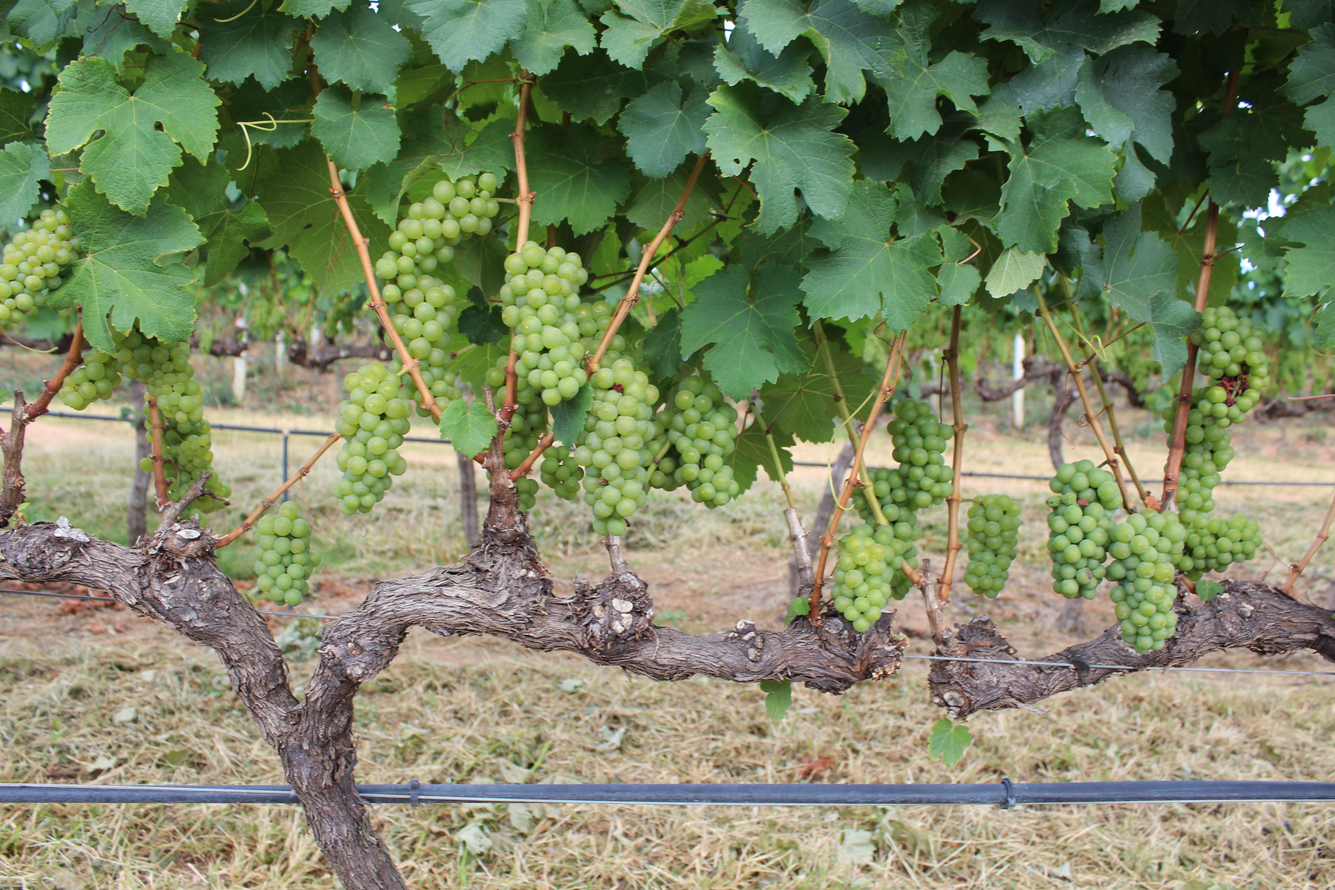leaf: (46, 52, 220, 215), (48, 180, 203, 352), (705, 85, 855, 232), (802, 180, 943, 331), (995, 108, 1116, 253), (681, 265, 808, 399), (255, 140, 364, 295), (738, 0, 897, 103), (167, 158, 271, 285), (1075, 45, 1179, 164), (974, 0, 1160, 63), (526, 123, 630, 235), (876, 41, 989, 139), (618, 80, 711, 178), (311, 2, 411, 93), (199, 0, 299, 90), (407, 0, 526, 73), (542, 49, 650, 125), (714, 21, 815, 102), (600, 0, 718, 68), (311, 85, 400, 170), (511, 0, 597, 76), (724, 422, 794, 492), (1147, 292, 1201, 379), (1283, 206, 1335, 296), (1283, 22, 1335, 105), (0, 142, 50, 228), (439, 399, 498, 458), (985, 246, 1047, 297), (348, 184, 390, 255), (552, 383, 593, 448), (124, 0, 188, 38), (928, 717, 973, 765), (0, 89, 35, 145), (1305, 98, 1335, 146), (760, 680, 792, 722), (279, 0, 350, 18), (316, 23, 325, 39), (321, 64, 327, 76), (124, 22, 130, 24), (130, 46, 132, 48), (1286, 4, 1287, 5), (122, 26, 123, 26)
